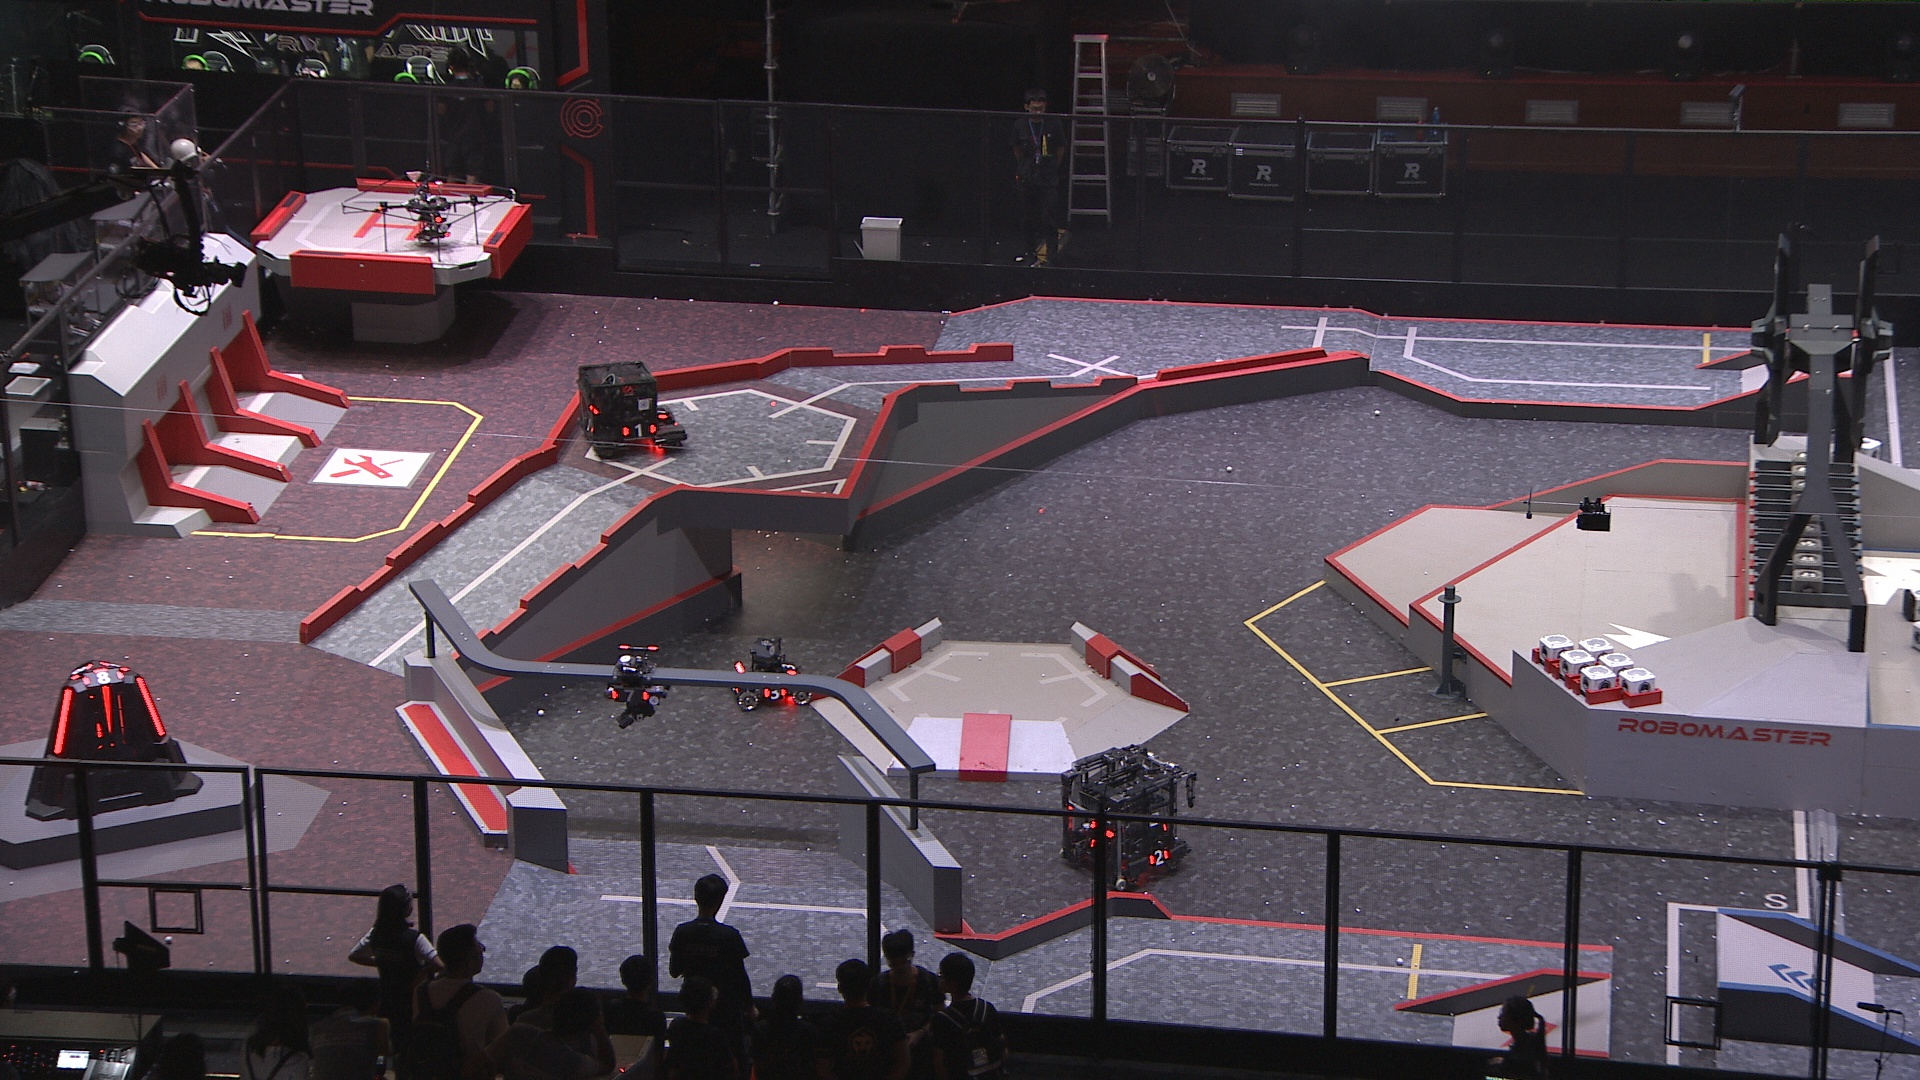armor: (135, 674, 166, 736), (53, 683, 73, 752), (80, 665, 124, 688), (98, 683, 113, 735), (612, 684, 647, 703), (621, 423, 655, 438), (71, 659, 96, 679), (1149, 851, 1172, 865), (582, 417, 596, 436), (651, 404, 669, 419), (764, 687, 789, 698), (783, 659, 795, 676)
base: (24, 655, 200, 820)
car: (1055, 745, 1192, 885), (572, 360, 688, 462), (731, 636, 818, 713)
watcher: (605, 642, 671, 723)
